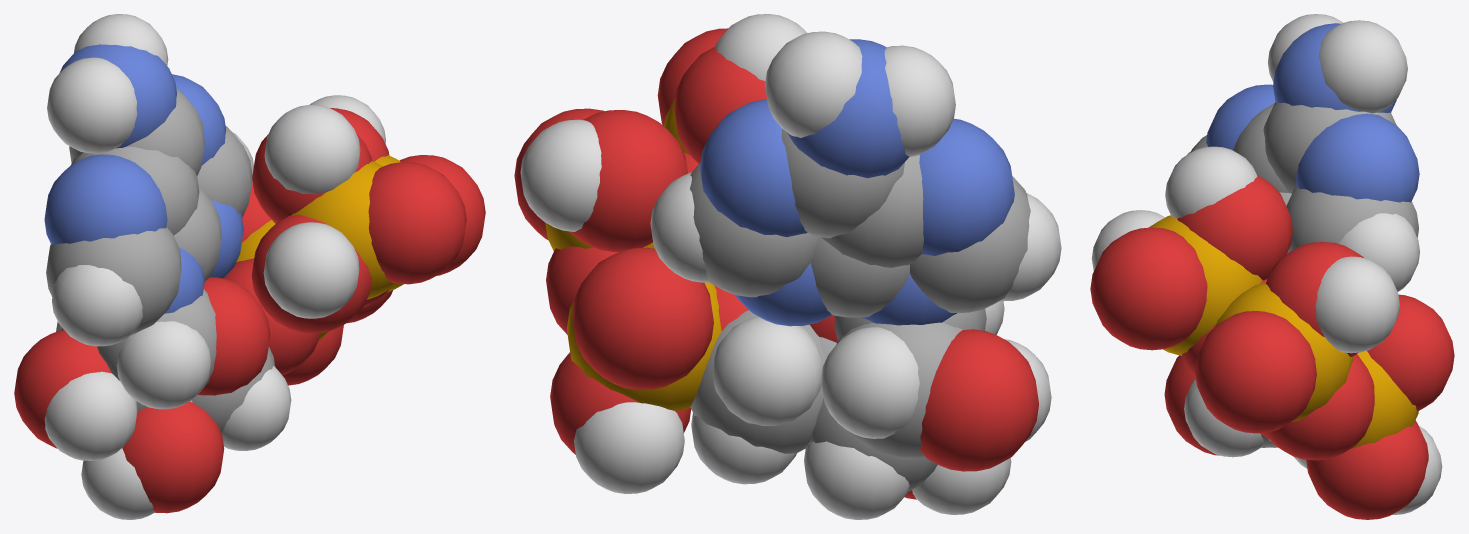
The model's file is atp-cpk.glb.
The picture shows the model from 3 angles, left to right: view 1: azimuth 30°, elevation 25°; view 2: azimuth 150°, elevation 25°; view 3: azimuth 270°, elevation 25°; orthographic projection. The views are drawn at different scales.
Parts seen in each view (by area): view 1: atp-cpk; view 2: atp-cpk; view 3: atp-cpk.
Boxes of the visible parts, box(x1,y1,x2,y2) form: atp-cpk: box(14, 14, 485, 519); atp-cpk: box(514, 14, 1061, 519); atp-cpk: box(1090, 14, 1454, 519).
Bounding box in the file's own units: 12.74 × 11.99 × 8.98.
